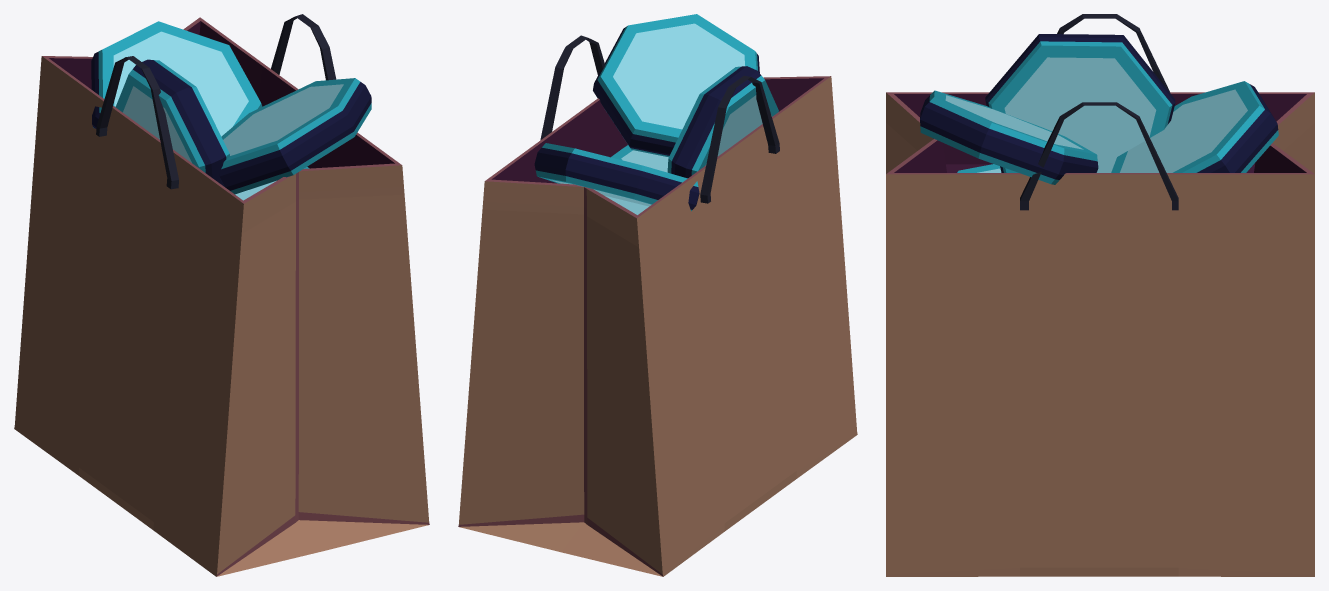
Rendered from AbandonedBag.001.fbx.
3 views of the same model, side by side, from view 1: azimuth 30°, elevation 25°; view 2: azimuth 150°, elevation 25°; view 3: azimuth 270°, elevation 25° (orthographic). The views are drawn at different scales.
Visible parts, largest first — view 1: AbandonedBag.001; view 2: AbandonedBag.001; view 3: AbandonedBag.001.
Boxes of the visible parts, bbox=[...] form: AbandonedBag.001: bbox=[14, 14, 429, 576]; AbandonedBag.001: bbox=[458, 14, 857, 576]; AbandonedBag.001: bbox=[886, 14, 1314, 576].
Size of the model in its own units: 30.01 by 58.58 by 49.27.
